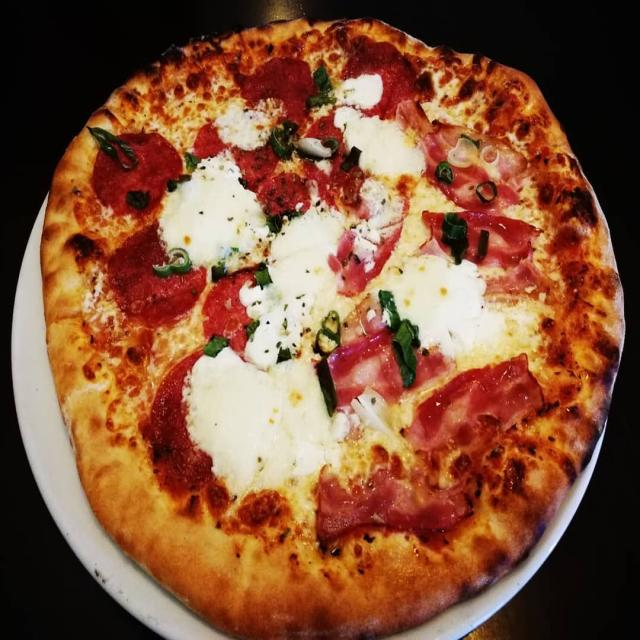pepperoni: (103, 217, 206, 329), (87, 124, 181, 215), (339, 36, 416, 116), (305, 107, 364, 205), (241, 54, 319, 125), (195, 122, 276, 179), (202, 272, 260, 346), (255, 168, 317, 225)
pizza: (39, 20, 625, 640)
